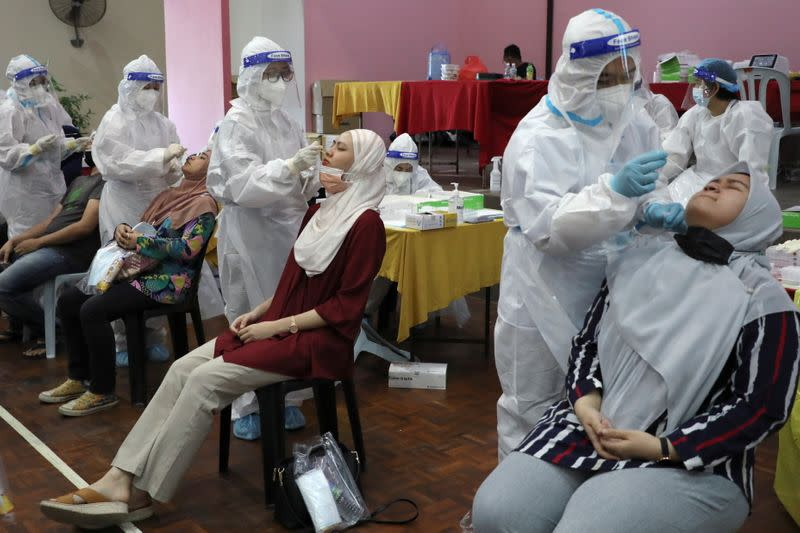Coverall: (489, 9, 668, 466), (209, 32, 311, 413), (94, 51, 181, 329), (1, 49, 78, 292)
Face_Shield: (566, 24, 647, 142), (241, 47, 298, 116), (121, 69, 171, 123), (679, 61, 720, 116), (380, 145, 423, 197), (13, 61, 53, 108)
Gloves: (609, 147, 672, 205), (637, 201, 694, 239), (28, 129, 65, 164), (291, 139, 325, 171), (155, 142, 185, 175)
mask_weared_incorrect: (674, 168, 756, 259), (318, 133, 354, 197)
with_mask: (597, 54, 634, 123), (257, 63, 290, 106), (23, 69, 53, 105), (135, 78, 163, 114), (388, 161, 413, 190), (691, 78, 709, 106)
without_mask: (180, 146, 210, 183)
